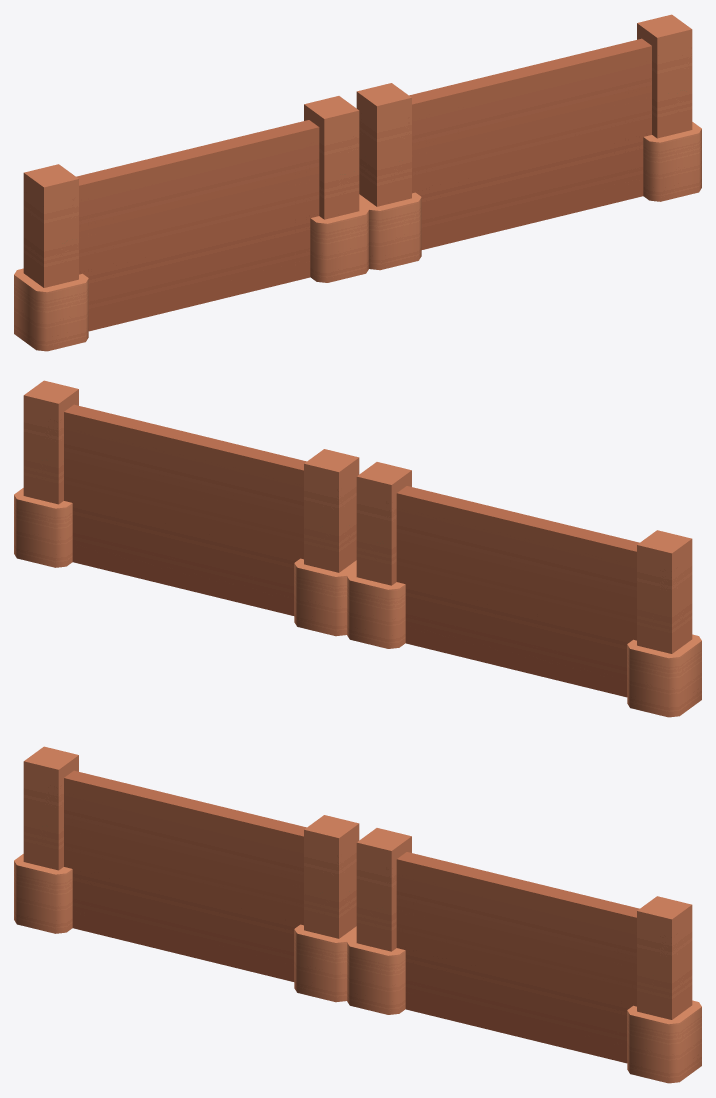
Rendered from fence-tall.glb.
3 renders of one model, top to bottom at view 1: azimuth 30°, elevation 25°; view 2: azimuth 150°, elevation 25°; view 3: azimuth 330°, elevation 25°, orthographic.
Visible parts, largest first — view 1: fence (×2); view 2: fence (×2); view 3: fence (×2).
Part boxes in pixels (x1,y1,x2,y2): fence (×2): (14, 14, 701, 351); fence (×2): (14, 380, 701, 717); fence (×2): (14, 746, 701, 1083).
Bounding box in the file's own units: 1 × 0.2295 × 0.0789.
2 materials, 2 textured.
